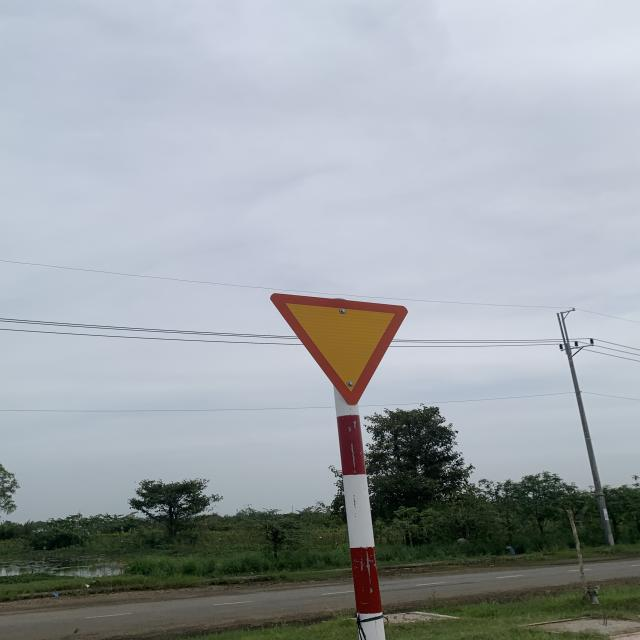Gioi_Han_Toc_Do_25: (269, 292, 407, 401)
